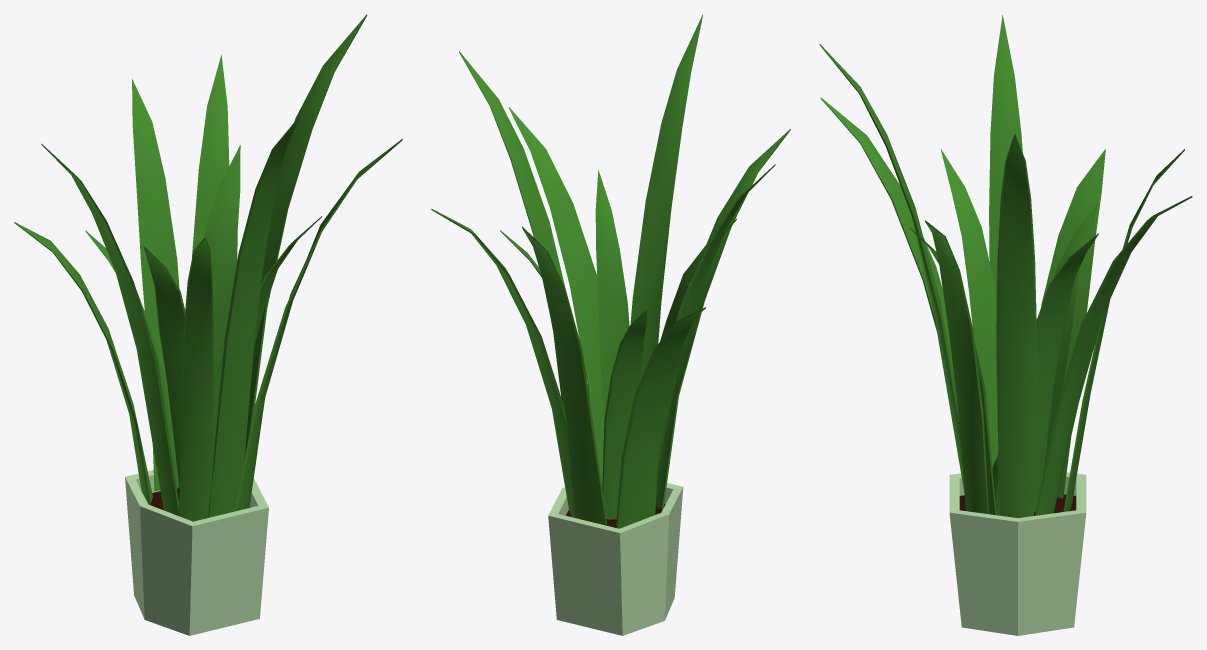
Rendered from Prop_sci_plant_a1.FBX.
The picture shows the model from 3 angles, left to right: view 1: azimuth 30°, elevation 25°; view 2: azimuth 150°, elevation 25°; view 3: azimuth 270°, elevation 25°; orthographic projection. The views are drawn at different scales.
Parts seen in each view (by area): view 1: Sci_plant_03, Sci_plant_02; view 2: Sci_plant_03, Sci_plant_02; view 3: Sci_plant_03, Sci_plant_02.
Boxes of the visible parts, bbox=[...] form: Sci_plant_03: bbox=[14, 14, 402, 521]; Sci_plant_02: bbox=[125, 470, 268, 635]; Sci_plant_03: bbox=[431, 14, 790, 528]; Sci_plant_02: bbox=[548, 483, 683, 635]; Sci_plant_03: bbox=[819, 15, 1192, 517]; Sci_plant_02: bbox=[949, 472, 1086, 635].
Size of the model in its own units: 29.04 by 46.94 by 27.9.
